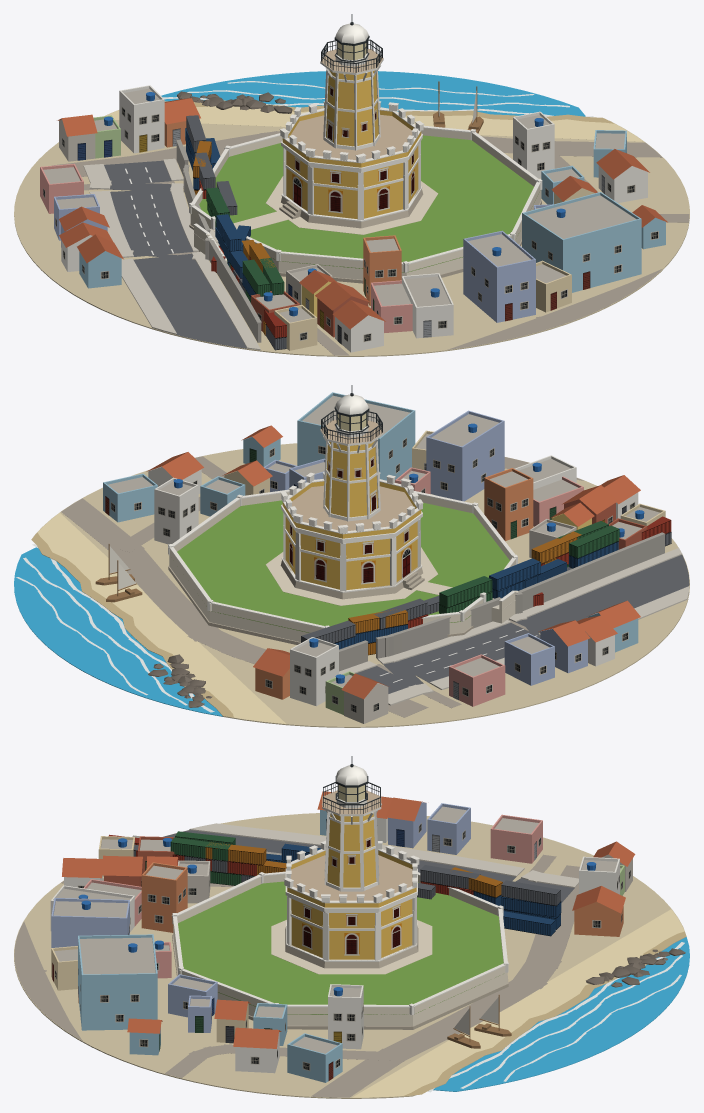
The model's file is farolMucuripe-pecas.glb.
3 views of the same model, one above another, from view 1: azimuth 30°, elevation 25°; view 2: azimuth 150°, elevation 25°; view 3: azimuth 270°, elevation 25° (orthographic).
Visible parts, largest first — view 1: Casario_Serviluz, Chao_Pisos, Farol_Velho, Chao_Plato, Chao_Base, Mar, Porto_Mucuripe, Recinto_Murado, Praia_Pedras_Jangadas; view 2: Casario_Serviluz, Chao_Pisos, Farol_Velho, Chao_Plato, Porto_Mucuripe, Chao_Base, Mar, Recinto_Murado, Praia_Pedras_Jangadas; view 3: Casario_Serviluz, Chao_Pisos, Chao_Plato, Chao_Base, Farol_Velho, Mar, Porto_Mucuripe, Recinto_Murado, Praia_Pedras_Jangadas.
Boxes of the visible parts, box(x1,y1,x2,y2) form: Casario_Serviluz: box(40, 85, 667, 352); Chao_Pisos: box(51, 100, 689, 355); Farol_Velho: box(279, 14, 424, 228); Chao_Plato: box(199, 135, 539, 272); Chao_Base: box(14, 110, 689, 356); Mar: box(161, 71, 593, 117); Porto_Mucuripe: box(176, 115, 286, 350); Recinto_Murado: box(189, 125, 542, 283); Praia_Pedras_Jangadas: box(177, 81, 483, 133); Casario_Serviluz: box(103, 392, 665, 723); Chao_Pisos: box(31, 456, 689, 723); Farol_Velho: box(280, 385, 424, 599); Chao_Plato: box(177, 500, 509, 632); Porto_Mucuripe: box(301, 516, 671, 671); Chao_Base: box(33, 443, 689, 727); Mar: box(14, 544, 222, 716); Recinto_Murado: box(168, 488, 518, 644); Praia_Pedras_Jangadas: box(95, 544, 212, 707); Casario_Serviluz: box(50, 791, 635, 1082); Chao_Pisos: box(14, 823, 686, 1097); Chao_Plato: box(178, 881, 503, 1014); Chao_Base: box(14, 813, 686, 1098); Farol_Velho: box(283, 756, 420, 968); Mar: box(428, 937, 689, 1092); Porto_Mucuripe: box(108, 831, 561, 936); Recinto_Murado: box(171, 871, 509, 1029); Praia_Pedras_Jangadas: box(447, 948, 685, 1048).
Bounding box in the file's own units: 66.79 × 22.57 × 66.78.
28 materials, 1 textured.
